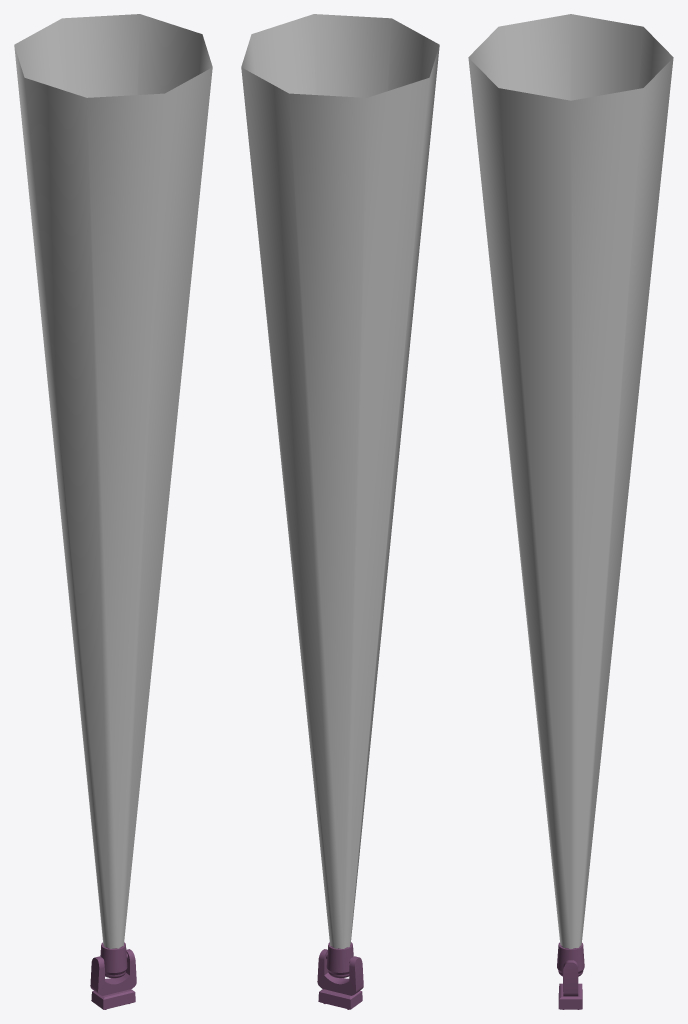
Rendered from spotlight.fbx.
3 views of the same model, side by side, from view 1: azimuth 30°, elevation 25°; view 2: azimuth 150°, elevation 25°; view 3: azimuth 270°, elevation 25° (orthographic).
Visible parts, largest first — view 1: Cone, SM_MovingHead_Yoke, SM_MovingHead_Head, SM_MovingHead_Base; view 2: Cone, SM_MovingHead_Yoke, SM_MovingHead_Head, SM_MovingHead_Base; view 3: Cone, SM_MovingHead_Head, SM_MovingHead_Yoke.
Part boxes in pixels (x1,y1,x2,y2): Cone: (14, 14, 212, 948); SM_MovingHead_Yoke: (90, 949, 136, 995); SM_MovingHead_Head: (100, 942, 127, 978); SM_MovingHead_Base: (91, 989, 135, 1009); Cone: (241, 14, 439, 948); SM_MovingHead_Yoke: (317, 949, 363, 995); SM_MovingHead_Head: (326, 942, 353, 978); SM_MovingHead_Base: (318, 989, 362, 1009); Cone: (468, 14, 673, 948); SM_MovingHead_Head: (557, 942, 584, 976); SM_MovingHead_Yoke: (563, 960, 578, 996).
Size of the model in its own units: 245 by 1246 by 245.
